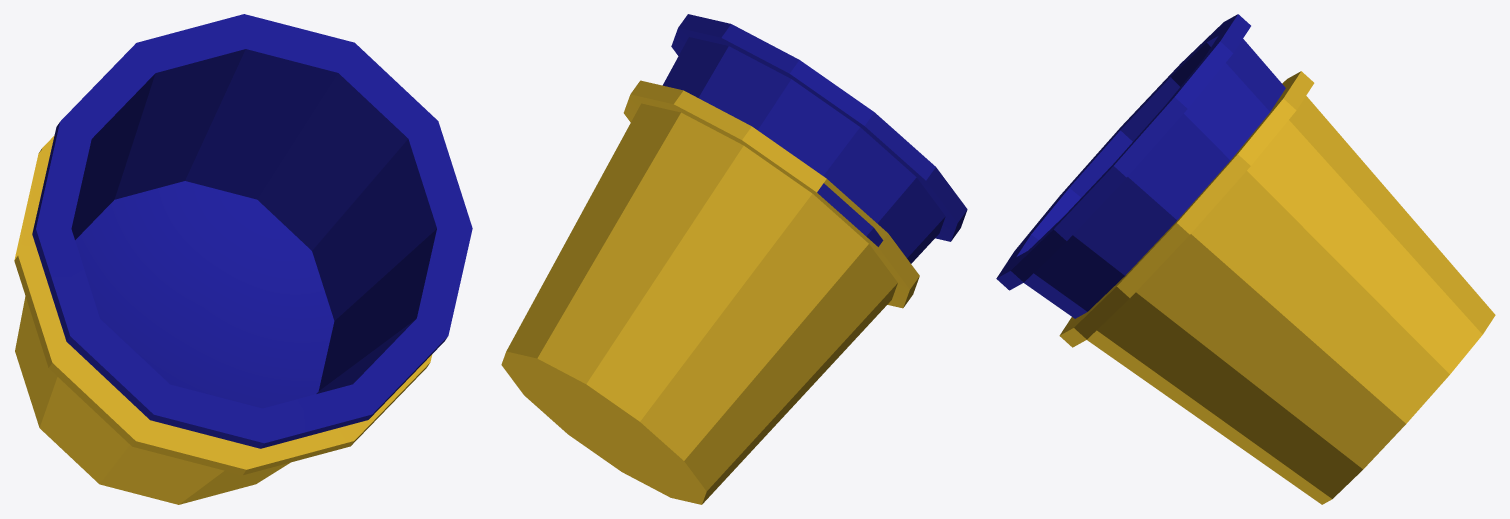
The model's file is ENV_Archaeology_Sideprops.fbx.
3 renders of one model, left to right at view 1: azimuth 30°, elevation 25°; view 2: azimuth 150°, elevation 25°; view 3: azimuth 270°, elevation 25°, orthographic. The views are drawn at different scales.
Visible parts, largest first — view 1: Buckets_03; view 2: Buckets_03; view 3: Buckets_03.
Part boxes in pixels (x1,y1,x2,y2): Buckets_03: (14, 14, 472, 504); Buckets_03: (501, 14, 967, 504); Buckets_03: (996, 14, 1495, 504).
Bounding box in the file's own units: 34.98 × 44.46 × 45.56.
